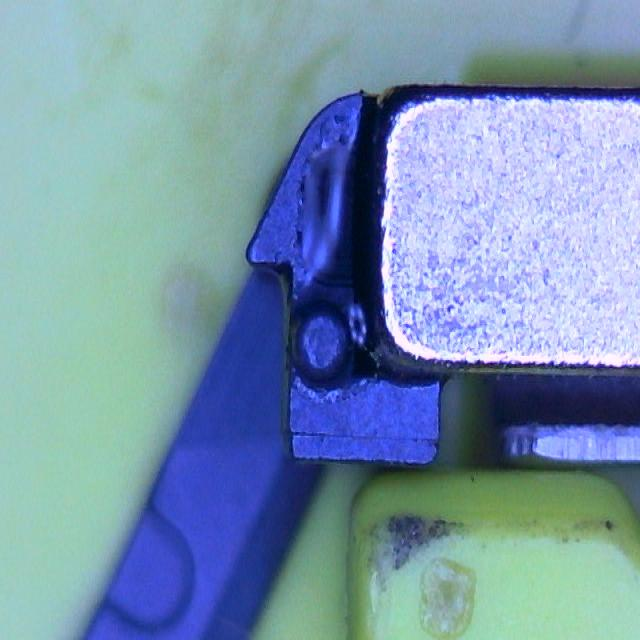over: (298, 138, 361, 288)
